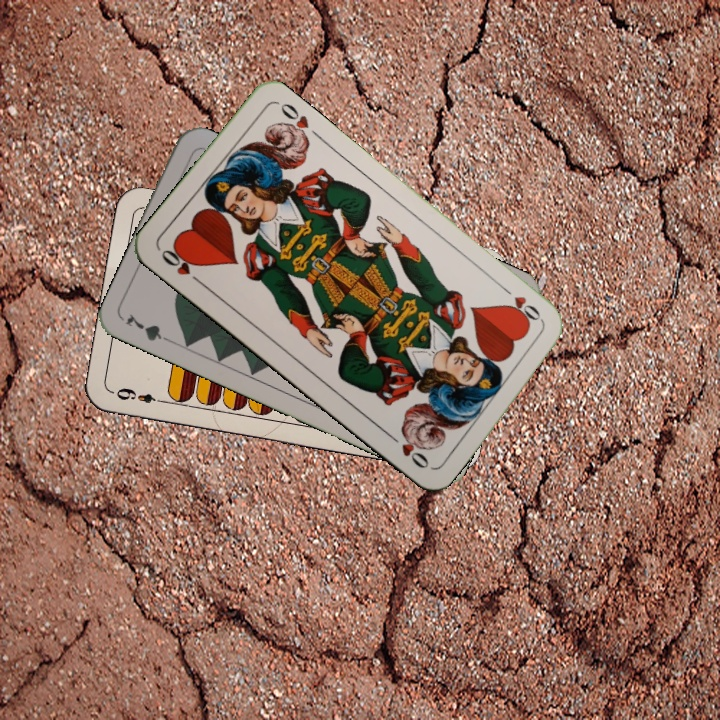E9: (112, 383, 168, 406)
G7: (121, 309, 177, 347)
HO: (157, 243, 206, 287), (503, 292, 547, 327)
